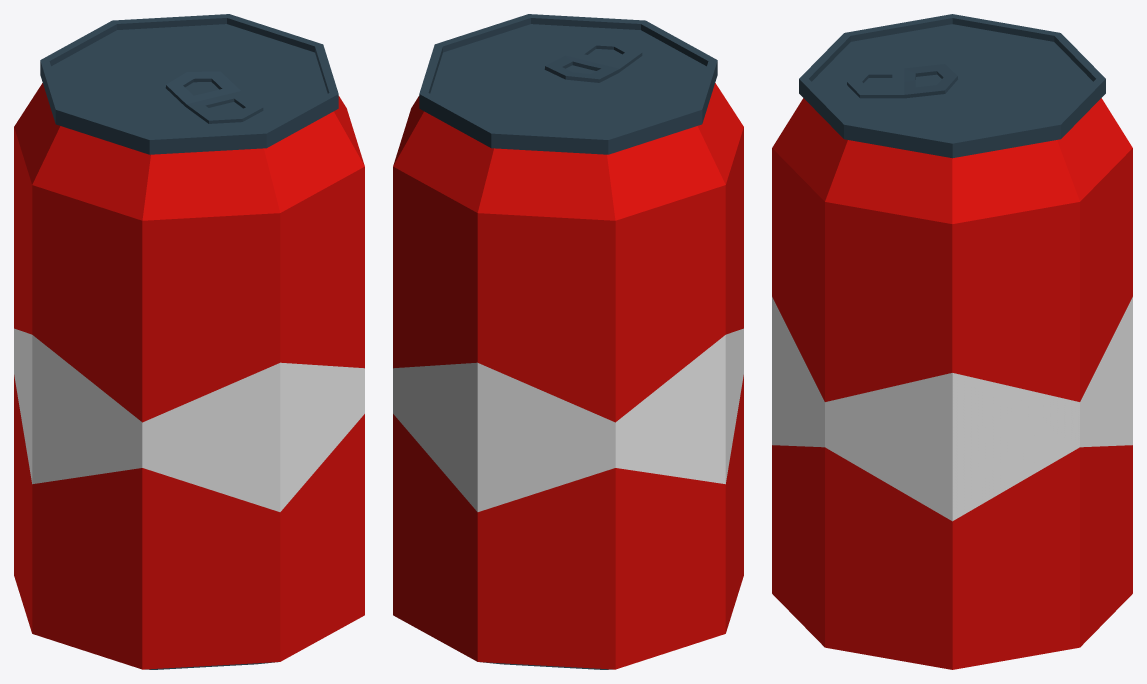
Rendered from Soda Can.fbx.
The picture shows the model from 3 angles, left to right: view 1: azimuth 30°, elevation 25°; view 2: azimuth 150°, elevation 25°; view 3: azimuth 270°, elevation 25°; orthographic projection.
Parts seen in each view (by area): view 1: Circle.001-Mesh-1, Circle.001-Mesh-2, Circle.001-Mesh-0; view 2: Circle.001-Mesh-1, Circle.001-Mesh-2, Circle.001-Mesh-0; view 3: Circle.001-Mesh-1, Circle.001-Mesh-2, Circle.001-Mesh-0.
Part boxes in pixels (box(x1,y1,x2,y2)): Circle.001-Mesh-1: box(14, 83, 364, 669); Circle.001-Mesh-2: box(14, 328, 364, 511); Circle.001-Mesh-0: box(40, 14, 338, 669); Circle.001-Mesh-1: box(393, 83, 743, 669); Circle.001-Mesh-2: box(393, 328, 743, 511); Circle.001-Mesh-0: box(419, 14, 717, 669); Circle.001-Mesh-1: box(772, 98, 1132, 669); Circle.001-Mesh-2: box(772, 297, 1132, 521); Circle.001-Mesh-0: box(799, 14, 1105, 158).
Size of the model in its own units: 6.11 by 10.06 by 6.11.
